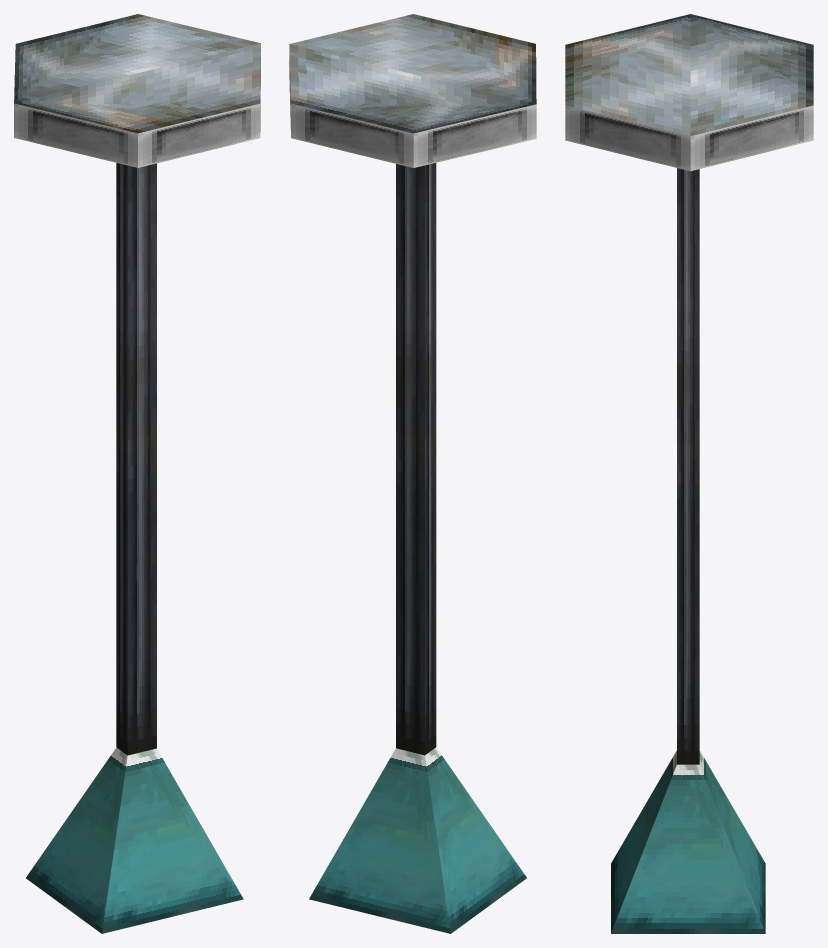
3 views of the same model, side by side, from view 1: azimuth 30°, elevation 25°; view 2: azimuth 150°, elevation 25°; view 3: azimuth 270°, elevation 25° (orthographic).
Parts seen in each view (by area): view 1: prim011-LAMP01.001; view 2: prim011-LAMP01.001; view 3: prim011-LAMP01.001.
Part boxes in pixels (x1,y1,x2,y2): prim011-LAMP01.001: (14, 14, 260, 933); prim011-LAMP01.001: (289, 14, 536, 933); prim011-LAMP01.001: (565, 14, 813, 933).
Bounding box in the file's own units: 127 × 400 × 109.
5 materials, 5 textured.
